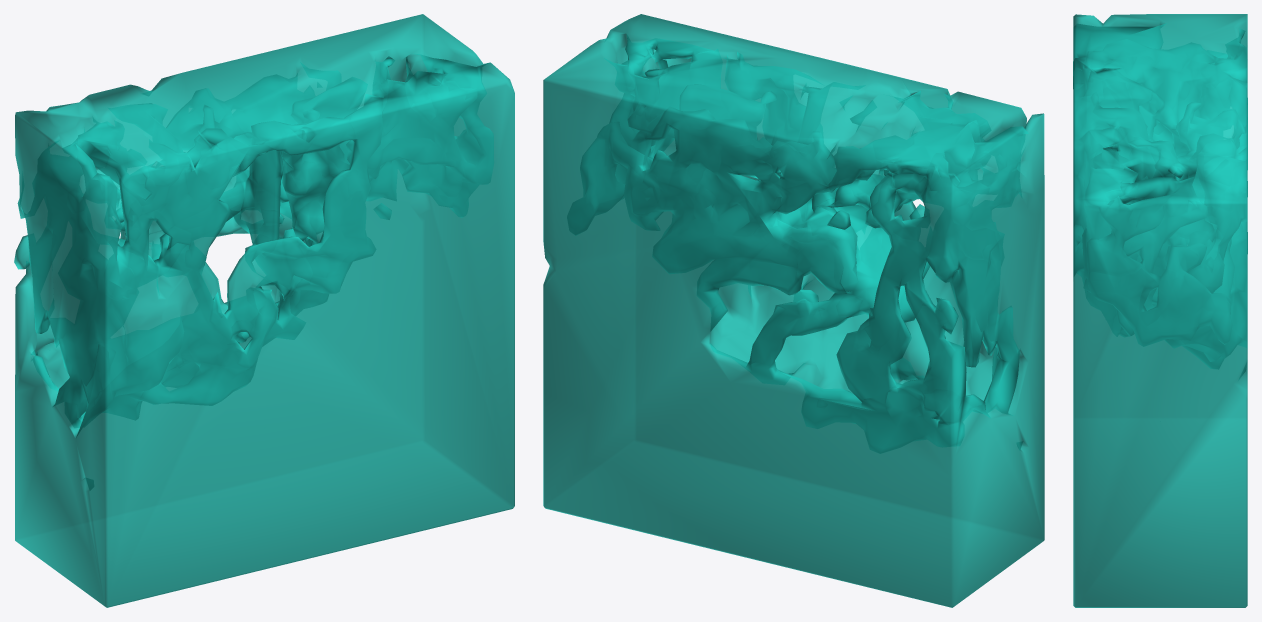
The picture shows the model from 3 angles, left to right: view 1: azimuth 30°, elevation 25°; view 2: azimuth 150°, elevation 25°; view 3: azimuth 270°, elevation 25°; orthographic projection. The views are drawn at different scales.
Visible parts, largest first — view 1: Liquid_Domain; view 2: Liquid_Domain; view 3: Liquid_Domain.
Part boxes in pixels (left/top/right/bottom): Liquid_Domain: left=14, top=14, right=514, bottom=607; Liquid_Domain: left=543, top=14, right=1044, bottom=607; Liquid_Domain: left=1073, top=14, right=1247, bottom=607.
Size of the model in its own units: 884 by 884 by 345.
